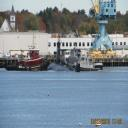submarine: (49, 33, 81, 73)
